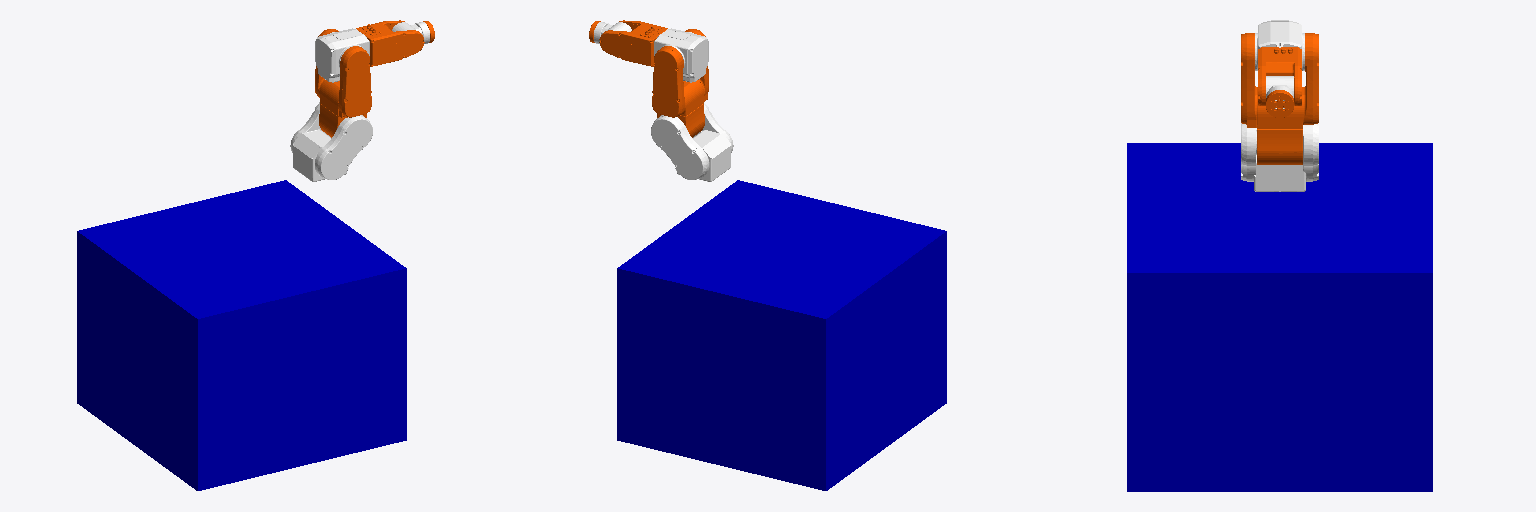
robot.urdf — pi:
<?xml version="1.0" ?>
<!-- =================================================================================== -->
<!-- |    This document was autogenerated by xacro from pi.urdf.xacro                  | -->
<!-- |    EDITING THIS FILE BY HAND IS NOT RECOMMENDED                                 | -->
<!-- =================================================================================== -->
<robot name="pi" xmlns:controller="http://playerstage.sourceforge.net/gazebo/xmlschema/#controller" xmlns:interface="http://playerstage.sourceforge.net/gazebo/xmlschema/#interface" xmlns:joint="http://playerstage.sourceforge.net/gazebo/xmlschema/#slider" xmlns:sensor="http://playerstage.sourceforge.net/gazebo/xmlschema/#sensor" xmlns:xacro="http://ros.org/wiki/xacro">
  <!-- pi base -->
  <!--step1: define the variable parameters  -->
  <!-- Import all Gazebo-customization elements, including Gazebo colors -->
  <!-- define the gazebo color -->
  <material name="black">
    <color rgba="0.0 0.0 0.0 1.0"/>
  </material>
  <material name="blue">
    <color rgba="0.0 0.0 0.8 1.0"/>
  </material>
  <material name="green">
    <color rgba="0.0 0.8 0.0 1.0"/>
  </material>
  <material name="grey">
    <color rgba="0.2 0.2 0.2 1.0"/>
  </material>
  <material name="orange">
    <color rgba="1.0 0.423529411765 0.0392156862745 1.0"/>
  </material>
  <material name="brown">
    <color rgba="0.870588235294 0.811764705882 0.764705882353 1.0"/>
  </material>
  <material name="red">
    <color rgba="0.8 0.0 0.0 1.0"/>
  </material>
  <material name="white">
    <color rgba="1.0 1.0 1.0 1.0"/>
  </material>
  <!--  add pi_robot -->
  <link name="world"/>
  <joint name="fixed0" type="fixed">
    <origin rpy="0 0 0" xyz="0 0 0.63"/>
    <parent link="world"/>
    <child link="table"/>
  </joint>
  <link name="table">
    <inertial>
      <origin rpy="0 0 0" xyz="0 0 0"/>
      <mass value="1000"/>
      <inertia ixx="86.4083333333" ixy="0.0" ixz="0.0" iyy="86.4083333333" iyz="0.0" izz="106.666666667"/>
    </inertial>
    <visual>
      <origin rpy="0 0 0" xyz="-0.3 0 -0.315"/>
      <geometry>
        <box size="0.8 0.8 0.63"/>
      </geometry>
      <material name="blue"/>
    </visual>
    <collision>
      <origin rpy="0 0 0" xyz="-0.3 0 -0.315"/>
      <geometry>
        <box size="0.8 0.8 0.63"/>
      </geometry>
    </collision>
  </link>
  <joint name="fixed1" type="fixed">
    <origin rpy="0 0 0" xyz="0 0 0"/>
    <parent link="table"/>
    <child link="base_link"/>
  </joint>
  <link name="base_link">
    <inertial>
      <origin rpy="0 0 0" xyz="-0.03384704 0 0.11175"/>
      <mass value="14.3536868"/>
      <inertia ixx="0.07954002" ixy="0.00014829" ixz="0.02350667" iyy="0.11705921" iyz="0.00028791" izz="0.07791483"/>
    </inertial>
    <visual>
      <origin rpy="0 0 0" xyz="0 0 0"/>
      <geometry>
        <mesh filename="package://pi_description/meshes/base_robot/base_link.STL"/>
      </geometry>
      <material name="orange"/>
    </visual>
    <collision>
      <origin rpy="0 0 0" xyz="0 0 0"/>
      <geometry>
        <mesh filename="package://pi_description/meshes/base_robot/base_link.STL"/>
      </geometry>
    </collision>
  </link>
  <joint name="J1" type="revolute">
    <origin rpy="0 0 0" xyz="0 0 0.2165"/>
    <parent link="base_link"/>
    <child link="link_1"/>
    <axis xyz="0 0 1"/>
    <dynamics damping="2"/>
    <limit effort="3000" lower="-2.61" upper="2.61" velocity="523.598775598"/>
  </joint>
  <link name="link_1">
    <inertial>
      <origin rpy="0 0 0" xyz="0.03782108 0.01898971 0.10151288"/>
      <mass value="9.0596047232"/>
      <inertia ixx="0.04499762" ixy="0.00648926" ixz="0.01733205" iyy="0.04930747" iyz="0.00699032" izz="0.04418632"/>
    </inertial>
    <visual>
      <origin rpy="0 0 0" xyz="0 0 0"/>
      <geometry>
        <mesh filename="package://pi_description/meshes/base_robot/link_1.STL"/>
      </geometry>
      <material name="white"/>
    </visual>
    <collision>
      <origin rpy="0 0 0" xyz="0 0 0"/>
      <geometry>
        <mesh filename="package://pi_description/meshes/base_robot/link_1.STL"/>
      </geometry>
    </collision>
  </link>
  <joint name="J2" type="revolute">
    <origin rpy="0 0 0" xyz="0.0884 0 0.15339"/>
    <parent link="link_1"/>
    <child link="link_2"/>
    <axis xyz="0 1 0"/>
    <dynamics damping="2"/>
    <dynamics friction="0.7"/>
    <limit effort="3000" lower="-0.91" upper="1.71" velocity="523.598775598"/>
  </joint>
  <link name="link_2">
    <inertial>
      <origin rpy="0 0 0" xyz=" 0.00037973 0.01463596  0.14110632"/>
      <mass value="8.44545558967"/>
      <inertia ixx="0.08725021" ixy="-0.00013077" ixz="-0.00011492" iyy="0.07314022" iyz="0.01268936" izz="0.02609127"/>
    </inertial>
    <visual>
      <origin rpy="0 0 0" xyz="0 0 0"/>
      <geometry>
        <mesh filename="package://pi_description/meshes/base_robot/link_2.STL"/>
      </geometry>
      <material name="orange"/>
    </visual>
    <collision>
      <origin rpy="0 0 0" xyz="0 0 0"/>
      <geometry>
        <mesh filename="package://pi_description/meshes/base_robot/link_2.STL"/>
      </geometry>
    </collision>
  </link>
  <joint name="J3" type="revolute">
    <origin rpy="0 0 0" xyz="0 0 0.26"/>
    <parent link="link_2"/>
    <child link="link_3"/>
    <axis xyz="0 1 0"/>
    <dynamics damping="2"/>
    <dynamics friction="0.7"/>
    <limit effort="3000" lower="-3.61" upper="0.61" velocity="523.598775598"/>
  </joint>
  <link name="link_3">
    <inertial>
      <origin rpy="0 0 0" xyz="0.03374938 -0.00089390  -0.01443372"/>
      <mass value="3.78434093355"/>
      <inertia ixx="0.00780439" ixy="0.00017321" ixz="0.00211938" iyy="0.01381789" iyz="-0.00003661" izz="0.01208117"/>
    </inertial>
    <visual>
      <origin rpy="0 0 0" xyz="-0.06 0 -0.01"/>
      <geometry>
        <mesh filename="package://pi_description/meshes/base_robot/link_3.STL"/>
      </geometry>
      <material name="white"/>
    </visual>
    <collision>
      <origin rpy="0 0 0" xyz="-0.06 0 -0.01"/>
      <geometry>
        <mesh filename="package://pi_description/meshes/base_robot/link_3.STL"/>
      </geometry>
    </collision>
  </link>
  <joint name="J4" type="revolute">
    <origin rpy="0 0 0" xyz="0.136 0 0"/>
    <parent link="link_3"/>
    <child link="link_4"/>
    <axis xyz="1 0 0"/>
    <dynamics damping="2"/>
    <dynamics friction="0.7"/>
    <limit effort="2000" lower="-3.16" upper="3.16" velocity="314.159265359"/>
  </joint>
  <link name="link_4">
    <inertial>
      <origin rpy="0 0 0" xyz="0.03079792 -0.00235658 0.00116401"/>
      <mass value="3.54435947994"/>
      <inertia ixx="0.00539089" ixy="-0.00042139" ixz="-0.00023156" iyy="0.01103474" iyz="0.00023749" izz="0.01128169"/>
    </inertial>
    <visual>
      <origin rpy="0 0 0" xyz="-0.06 0 0"/>
      <geometry>
        <mesh filename="package://pi_description/meshes/base_robot/link_4.STL"/>
      </geometry>
      <material name="orange"/>
    </visual>
    <collision>
      <origin rpy="0 0 0" xyz="-0.06 0 0"/>
      <geometry>
        <mesh filename="package://pi_description/meshes/base_robot/link_4.STL"/>
      </geometry>
    </collision>
  </link>
  <joint name="J5" type="revolute">
    <origin rpy="0 0 0" xyz="0.105 0 0"/>
    <parent link="link_4"/>
    <child link="link_5"/>
    <axis xyz="0 1 0"/>
    <limit effort="2000" lower="-1.88" upper="1.88" velocity="314.159265359"/>
  </joint>
  <link name="link_5">
    <inertial>
      <origin rpy="0 0 0" xyz=" 0.03936521 0.00086589 -0.00054972"/>
      <mass value="1.37811744"/>
      <inertia ixx="0.00093428486" ixy="-4.724046E-05" ixz="4.7174488E-07" iyy="0.0019708145" iyz="-2.1586564E-07" izz="0.0018400146"/>
    </inertial>
    <visual>
      <origin rpy="0 0 0" xyz="0 0 0"/>
      <geometry>
        <mesh filename="package://pi_description/meshes/base_robot/link_5.STL"/>
      </geometry>
      <material name="white"/>
    </visual>
    <collision>
      <origin rpy="0 0 0" xyz="0 0 0"/>
      <geometry>
        <mesh filename="package://pi_description/meshes/base_robot/link_5.STL"/>
      </geometry>
    </collision>
  </link>
  <joint name="J6" type="revolute">
    <origin rpy="0 0 0" xyz="0.0725 0 0"/>
    <parent link="link_5"/>
    <child link="link_6"/>
    <axis xyz="1 0 0"/>
    <limit effort="2000" lower="-6.29" upper="6.29" velocity="314.159265359"/>
  </joint>
  <link name="link_6">
    <inertial>
      <origin rpy="0 0 0" xyz="0.01004134 5.1401544E-05 -0.03576E-03"/>
      <mass value="0.13048535"/>
      <inertia ixx="0.00010825691" ixy="-1.3134597E-08" ixz="-2.3228633E-08" iyy="5.6120147E-05" iyz="-2.1274058E-08" izz="5.6077018E-05"/>
    </inertial>
    <visual>
      <origin rpy="0 0 0" xyz="0.0165 0 0"/>
      <geometry>
        <mesh filename="package://pi_description/meshes/base_robot/link_6.STL"/>
      </geometry>
      <material name="orange"/>
    </visual>
    <collision>
      <origin rpy="0 0 0" xyz="0.0165 0 0"/>
      <geometry>
        <mesh filename="package://pi_description/meshes/base_robot/link_6.STL"/>
      </geometry>
    </collision>
  </link>
  <!-- import.gazebo -->
  <!-- <xacro:base_gazebo/> -->
  <gazebo>
    <plugin filename="libangle_control.so" name="gazebo_control">
      <Dof>6</Dof>
      <UrdfFilePath>[local-path]/catkin_ws/src/pi_six_axis/pi_description/robots/pi.urdf</UrdfFilePath>
      <NaturalFreq1>50</NaturalFreq1>
      <NaturalFreq2>50</NaturalFreq2>
      <NaturalFreq3>60</NaturalFreq3>
      <NaturalFreq4>50</NaturalFreq4>
      <NaturalFreq5>50</NaturalFreq5>
      <NaturalFreq6>40</NaturalFreq6>
      <GearRatio1>121</GearRatio1>
      <GearRatio2>101</GearRatio2>
      <GearRatio3>81</GearRatio3>
      <GearRatio4>51</GearRatio4>
      <GearRatio5>50</GearRatio5>
      <GearRatio6>36</GearRatio6>
    </plugin>
  </gazebo>
  <!--   <gazebo>
    <plugin name="gazebo_control" filename="libangle_control.so">
      <RobotNamespace>/pi</RobotNamespace>
    </plugin>
  </gazebo> -->
  <gazebo reference="table">
    <material>Gazebo/Blue</material>
  </gazebo>
  <gazebo reference="base_link">
    <material>Gazebo/Orange</material>
  </gazebo>
  <gazebo reference="link_2">
    <material>Gazebo/Orange</material>
  </gazebo>
  <gazebo reference="link_4">
    <material>Gazebo/Orange</material>
  </gazebo>
  <gazebo reference="link_6">
    <material>Gazebo/Orange</material>
  </gazebo>
  <!--  add gripper -->
  <joint name="pneumatic_gripper_joint" type="fixed">
    <origin rpy="0 -1.57079632679 0" xyz="0.0165 0 0"/>
    <parent link="link_6"/>
    <child link="gripper_base"/>
  </joint>
  <link name="gripper_base">
    <inertial>
      <origin rpy="0 0 0" xyz="0 0 0"/>
      <mass value="0.03"/>
      <inertia ixx="9.75e-06" ixy="0" ixz="0" iyy="9.75e-06" iyz="0" izz="1.5e-06"/>
    </inertial>
    <visual>
      <!-- <origin xyz="0 0 ${-gripper_base_length/2}" rpy="0 0 0" /> -->
      <origin rpy="0 0 0" xyz="0 0 0"/>
      <geometry>
        <!-- <cylinder length="${gripper_base_length}" radius="${gripper_base_radius}"/> -->
        <mesh filename="package://six_kent_description/meshes/pneumatic_gripper/pneumatic_gripper_w_cup.DAE"/>
      </geometry>
      <material name="orange"/>
    </visual>
    <collision>
      <origin rpy="0 0 0" xyz="0 0 -0.03"/>
      <geometry>
        <cylinder length="0.06" radius="0.01"/>
      </geometry>
    </collision>
  </link>
  <joint name="suction_cup_joint" type="fixed">
    <origin rpy="0 0 0" xyz="0 0 -0.06"/>
    <parent link="gripper_base"/>
    <child link="suction_cup"/>
  </joint>
  <link name="suction_cup">
    <inertial>
      <origin rpy="0 0 0" xyz="0 0 0"/>
      <mass value="0.01"/>
      <inertia ixx="3.95833333333e-07" ixy="0" ixz="0" iyy="3.95833333333e-07" iyz="0" izz="1.25e-07"/>
    </inertial>
    <collision>
      <origin rpy="0 0 0" xyz="0 0 -0.01"/>
      <geometry>
        <cylinder length="0.02" radius="0.005"/>
      </geometry>
    </collision>
  </link>
  <!-- add plugin -->
  <!--     <gazebo reference="gripper_base">
      <material>Gazebo/Black</material>
    </gazebo> -->
  <gazebo reference="suction_cup">
    <kp value="1.0"/>
    <kd value="10000.0"/>
    <material>Gazebo/Black</material>
  </gazebo>
  <gazebo>
    <plugin filename="libpneumatic_gripper.so" name="pneumatic_gripper_plugin">
      <gripper_link>mybot::link_6</gripper_link>
    </plugin>
  </gazebo>
</robot>

--- What the picture shows (computed from the rendered views, not written in the file) ---
3 views of the same robot in one strip: view 1: azimuth 30°, elevation 25°; view 2: azimuth 150°, elevation 25°; view 3: azimuth 270°, elevation 25° (orthographic).
Model pi with 11 links and 10 joints (6 revolute, 4 fixed), rooted at world, posed every joint at zero.
Links seen in each view (by area): view 1: table, link_1, link_2, link_4, link_3; view 2: table, link_1, link_2, link_4, link_3; view 3: table, link_2, link_1, link_4, link_3, link_6.
Boxes of the visible links, x1,y1,x2,y2 form: table: (77, 180, 406, 490); link_1: (290, 102, 372, 181); link_2: (315, 29, 371, 137); link_4: (356, 20, 424, 66); link_3: (315, 28, 369, 82); table: (617, 180, 946, 490); link_1: (651, 102, 733, 181); link_2: (652, 29, 708, 137); link_4: (599, 20, 667, 66); link_3: (654, 28, 708, 82); table: (1127, 143, 1432, 491); link_2: (1241, 33, 1318, 164); link_1: (1241, 123, 1318, 191); link_4: (1258, 47, 1301, 105); link_3: (1255, 20, 1304, 70); link_6: (1266, 90, 1293, 117).
Size in the robot's own frame: 1.12 by 0.8 by 1.32 metres.
Meshes: 8 distinct files referenced, 6 mesh visuals loaded (6 binary STL); not drawn: 2 (reference not matched to a file when rendering).
